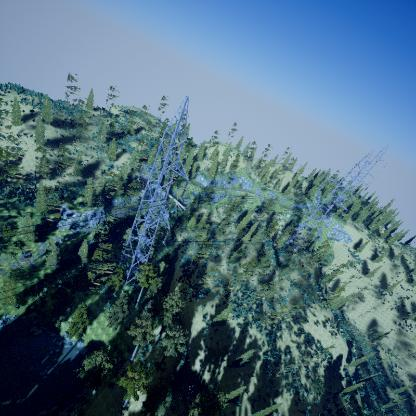tower: (111, 93, 195, 296)
